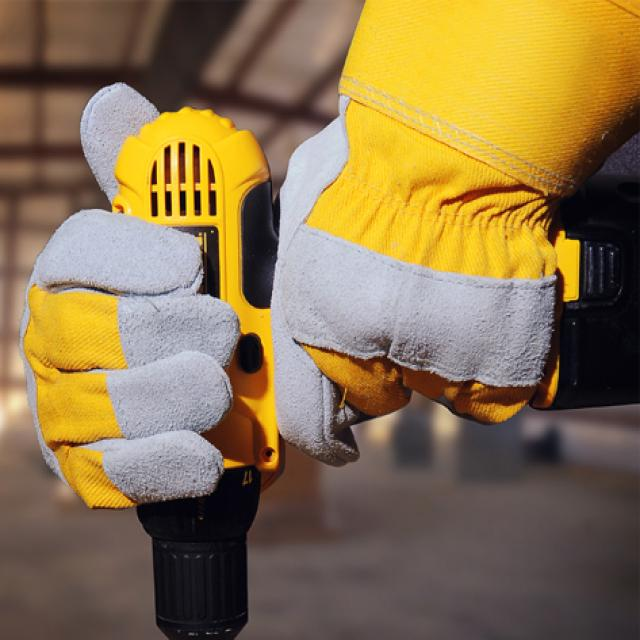gloves: (276, 0, 640, 475), (16, 82, 244, 512)
